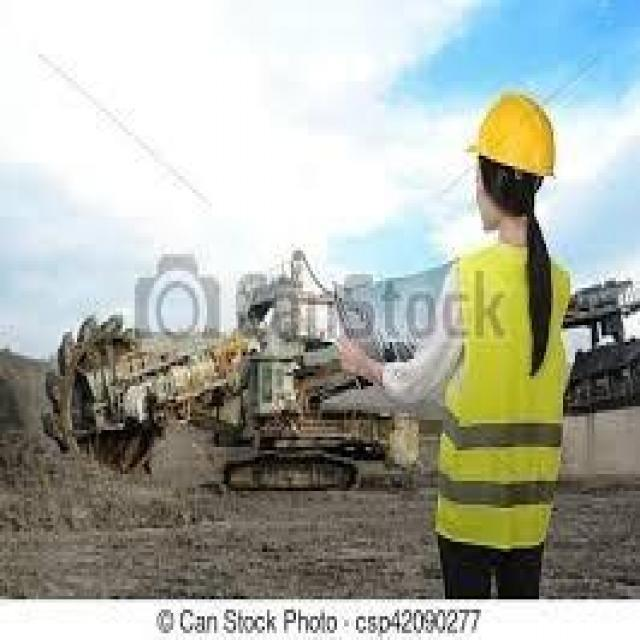helmet: (462, 84, 566, 184)
vest: (432, 242, 573, 554)
